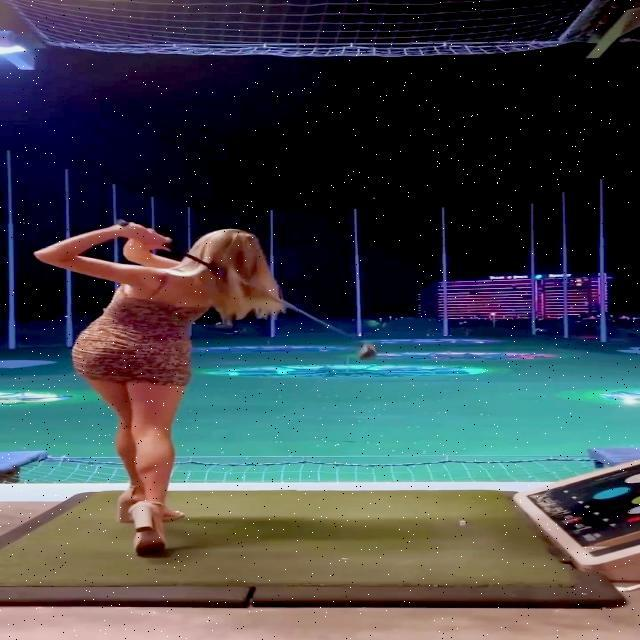golf club-handle: (118, 220, 377, 360)
golf club-head: (360, 345, 377, 360)
